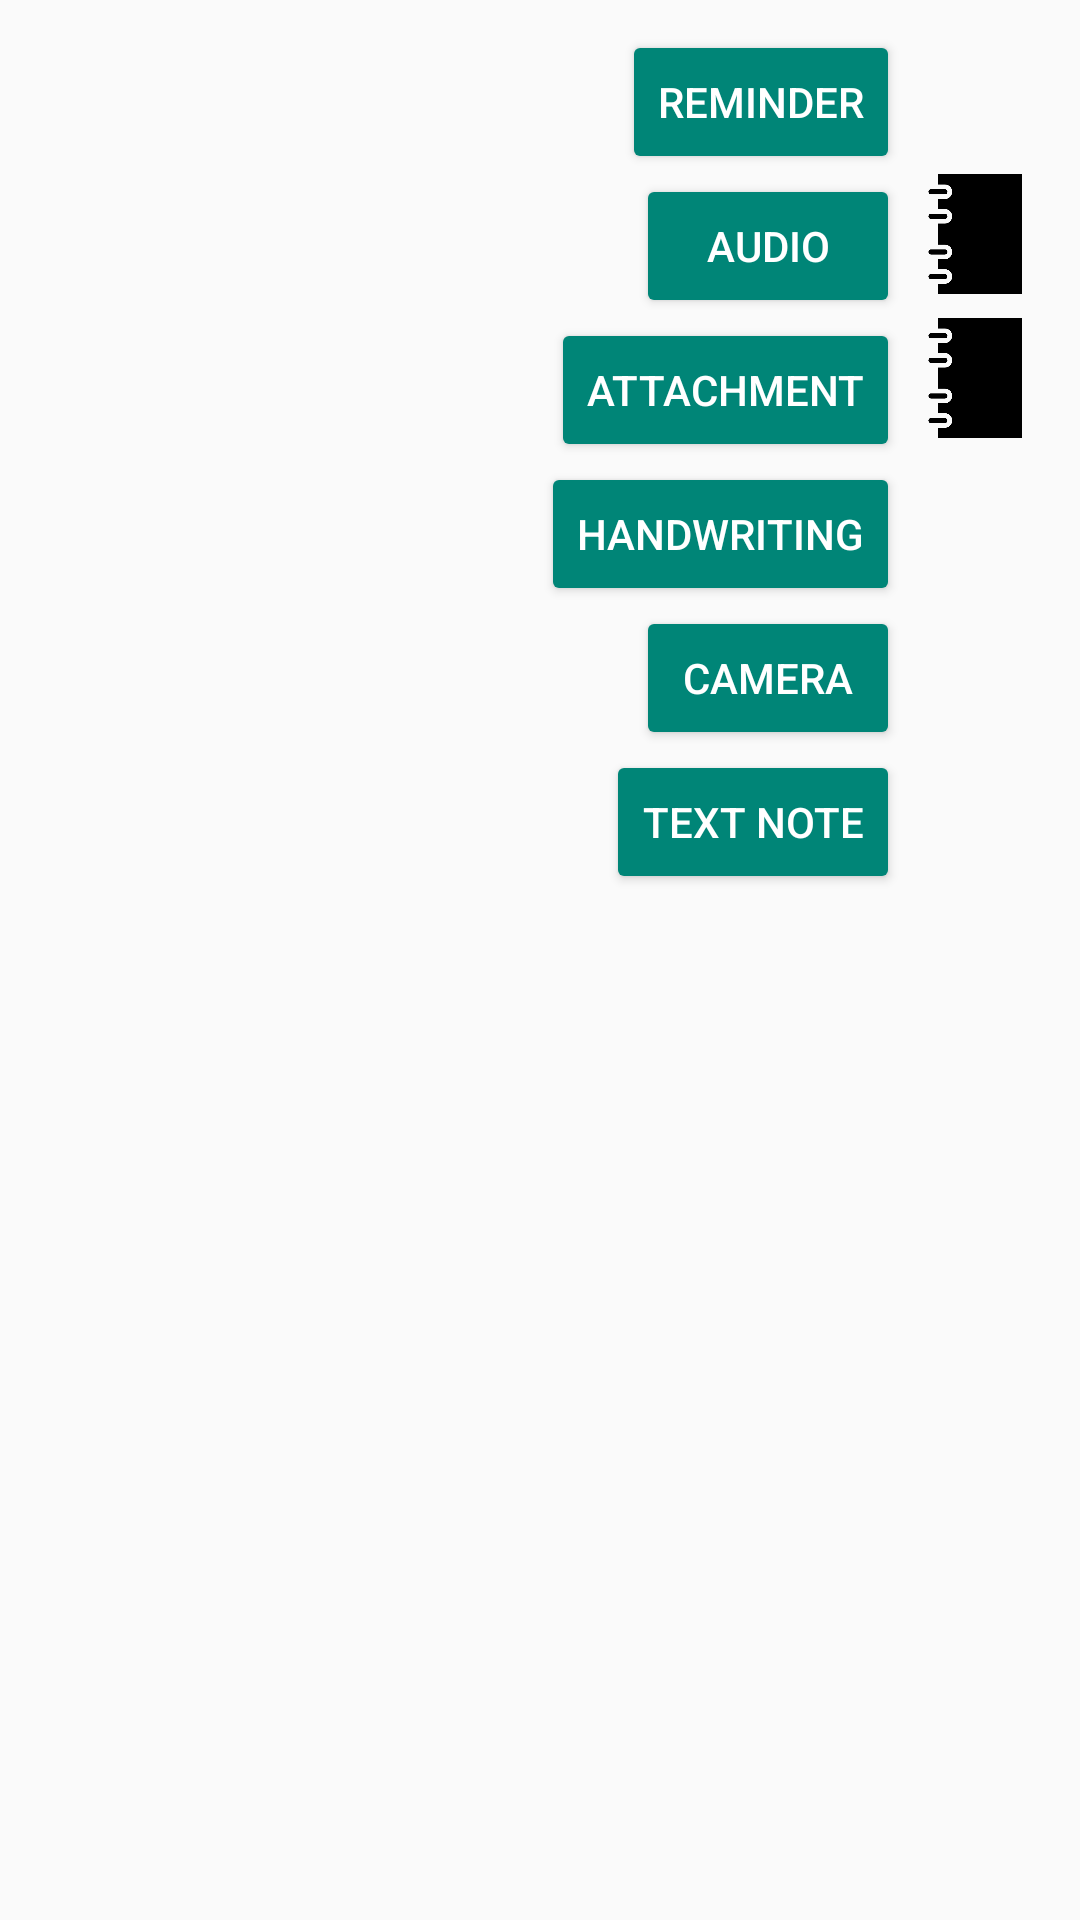

Named icons in this screenshot (1080w x 1920h) and their bounding boxes, bbox=[x1, y1, x2, y2]:
notebook: bbox=[928, 174, 1022, 294], bbox=[928, 318, 1022, 438]
